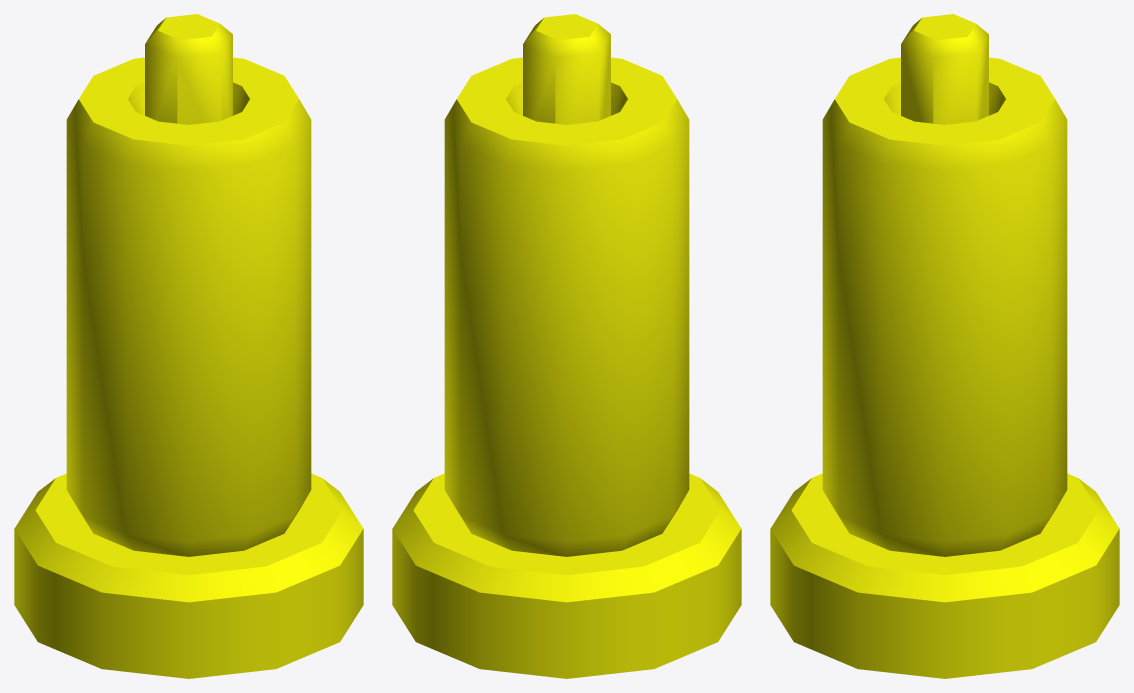
The model's file is papertowel.gltf.
3 views of the same model, side by side, from view 1: azimuth 30°, elevation 25°; view 2: azimuth 150°, elevation 25°; view 3: azimuth 270°, elevation 25° (orthographic).
Parts seen in each view (by area): view 1: papertowel; view 2: papertowel; view 3: papertowel.
Boxes of the visible parts, x1,y1,x2,y2 form: papertowel: [14, 14, 363, 678]; papertowel: [392, 14, 741, 678]; papertowel: [770, 14, 1119, 678].
Bounding box in the file's own units: 0.5 × 0.9138 × 0.5.
Materials: 1 (1 with a texture image).
